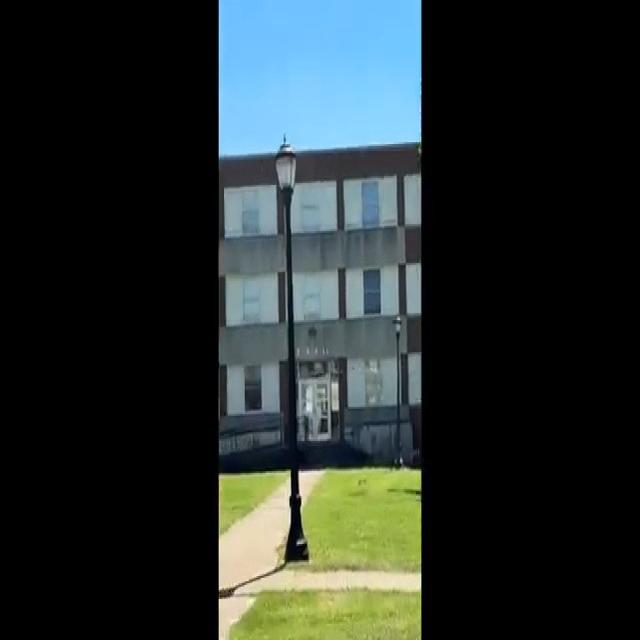drone: (348, 361, 359, 372)
